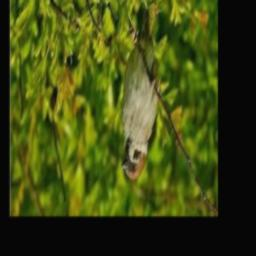Sparrow: (121, 0, 159, 180)
